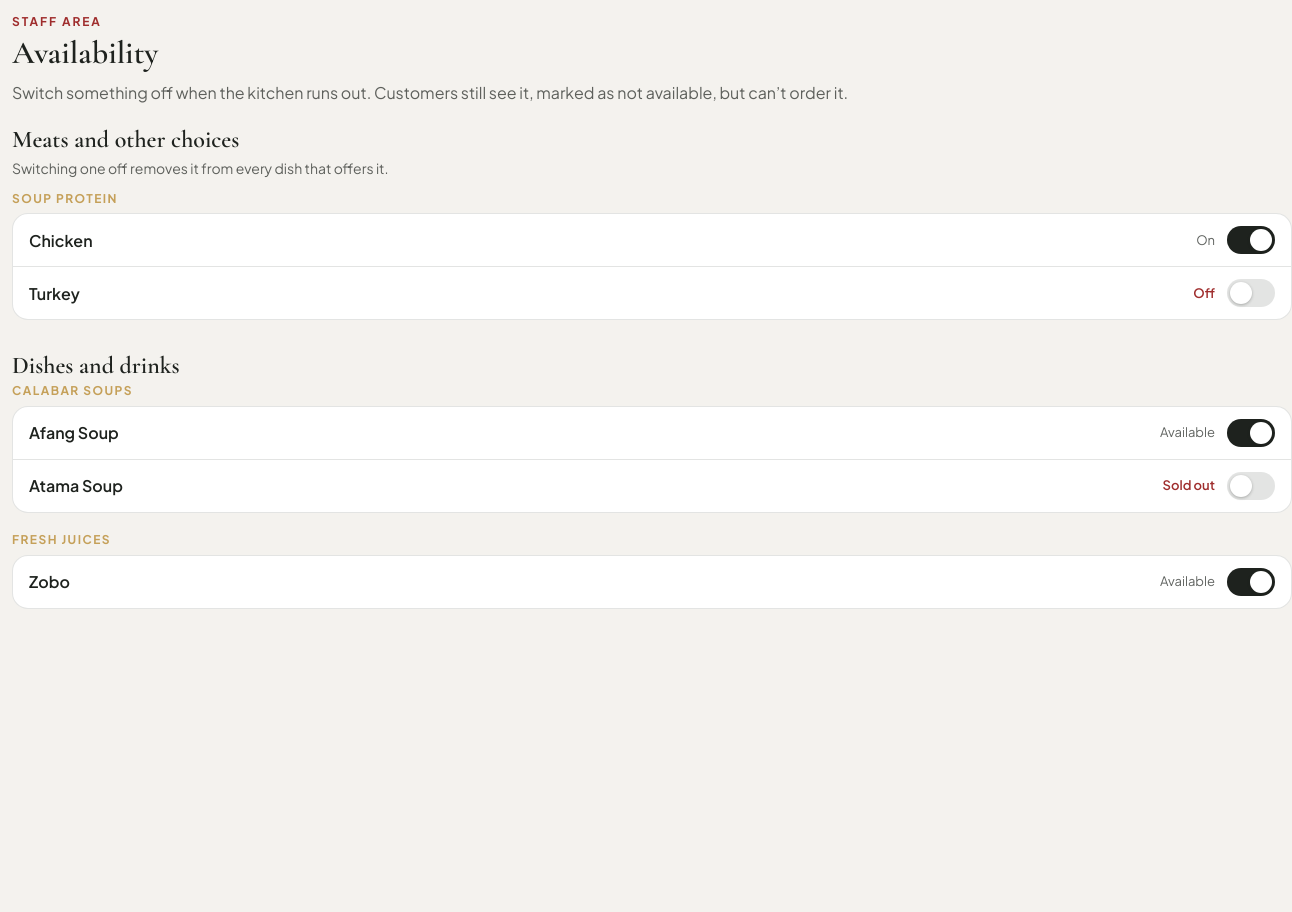
AdminAvailabilityView › explains when a meat was removed meanwhile
Step 1. Click the switch named "Chicken available" → coordinates (1251, 240), box [1227,226,1275,254]
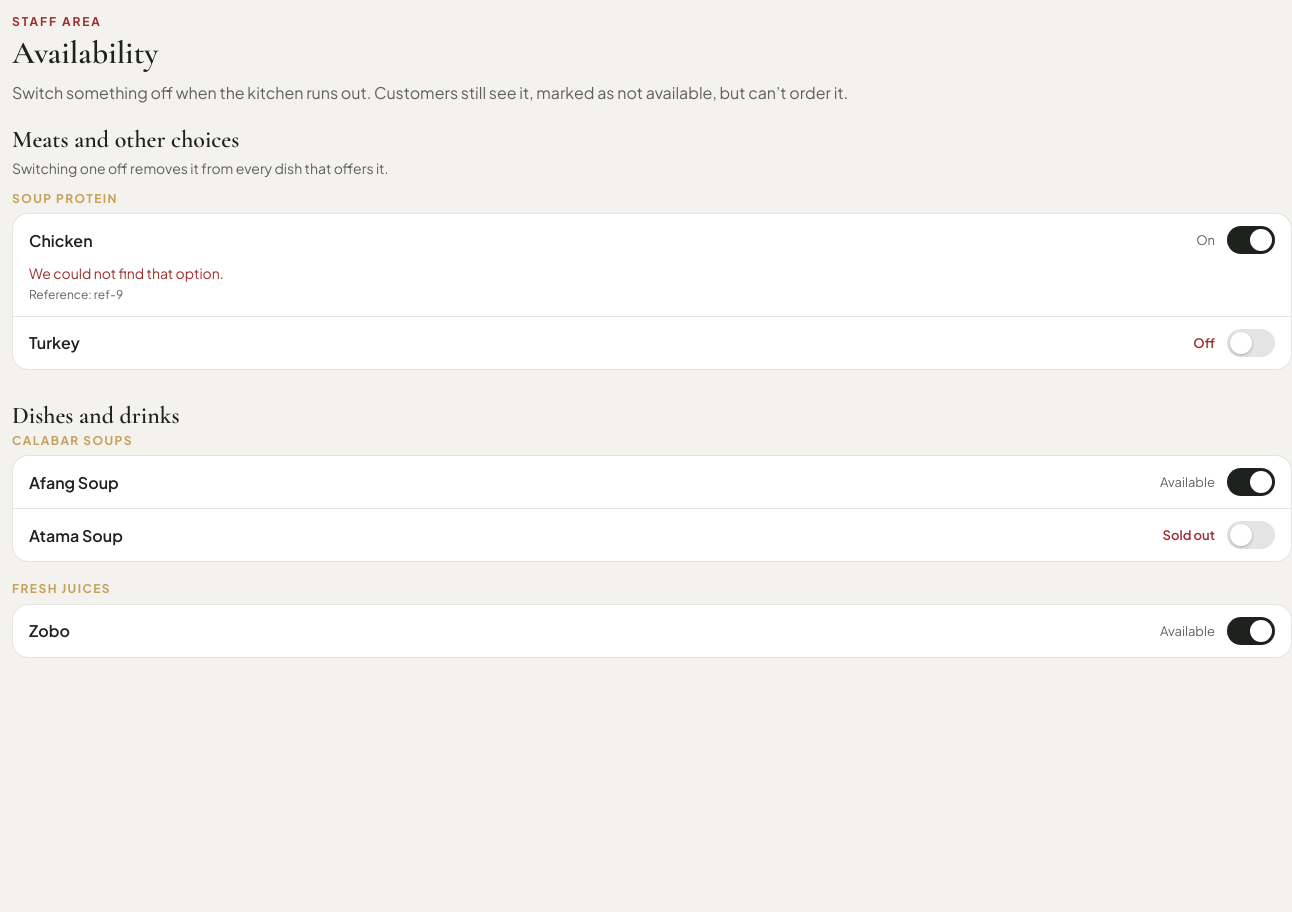
Expected: the message "We could not find that option. Reference: ref-9" is shown, [29,264,224,302]
